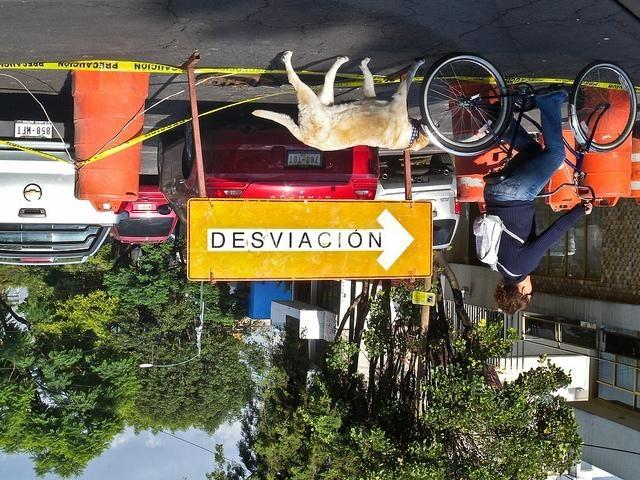bicycle: (433, 59, 631, 211)
car: (154, 119, 382, 230), (0, 115, 120, 269), (376, 144, 460, 250), (112, 184, 178, 244)
